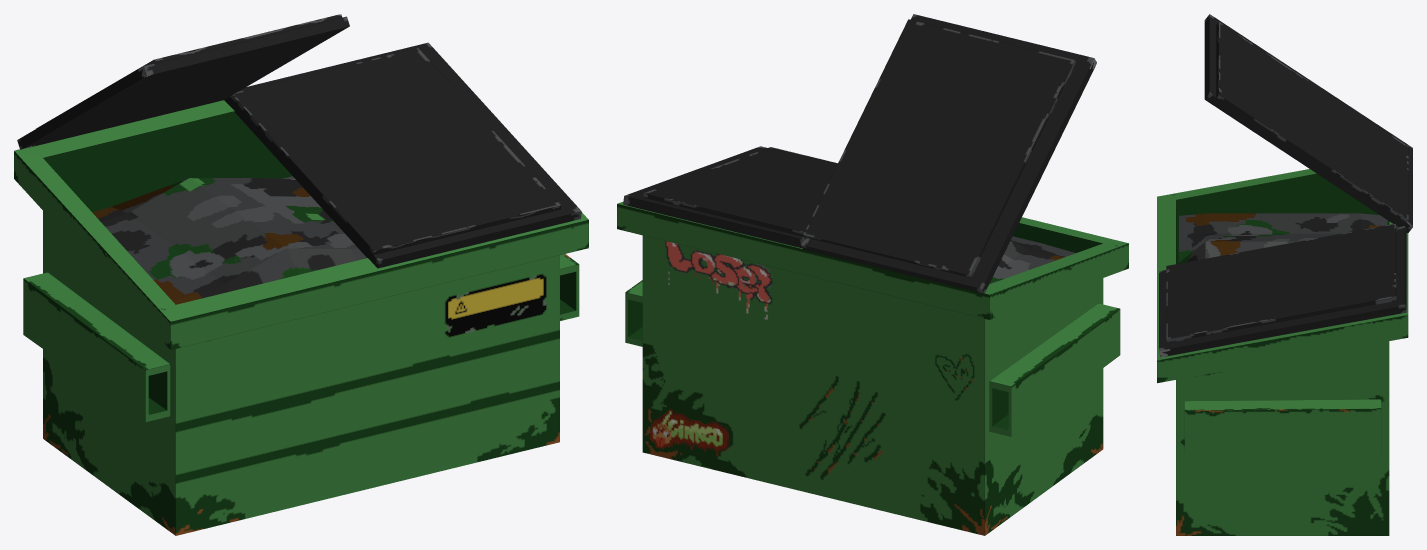
File: Dumpster.fbx
3 views of the same model, side by side, from view 1: azimuth 30°, elevation 25°; view 2: azimuth 150°, elevation 25°; view 3: azimuth 270°, elevation 25° (orthographic). The views are drawn at different scales.
Parts seen in each view (by area): view 1: Bin_Base, Lid_Right, Trash, Lid_Left; view 2: Bin_Base, Lid_Left, Lid_Right, Trash; view 3: Bin_Base, Lid_Right, Lid_Left, Trash.
Boxes of the visible parts, left/top/right/bottom form: Bin_Base: left=14, top=100, right=588, bottom=535; Lid_Right: left=224, top=42, right=581, bottom=268; Trash: left=92, top=176, right=366, bottom=304; Lid_Left: left=17, top=14, right=349, bottom=149; Bin_Base: left=617, top=201, right=1128, bottom=535; Lid_Left: left=801, top=14, right=1096, bottom=293; Lid_Right: left=623, top=146, right=837, bottom=248; Trash: left=989, top=236, right=1075, bottom=284; Bin_Base: left=1157, top=169, right=1408, bottom=535; Lid_Right: left=1159, top=223, right=1406, bottom=357; Lid_Left: left=1204, top=14, right=1412, bottom=232; Trash: left=1179, top=213, right=1387, bottom=263.
Size of the model in its own units: 400 by 403 by 255.
Materials: 1 (1 with a texture image).
